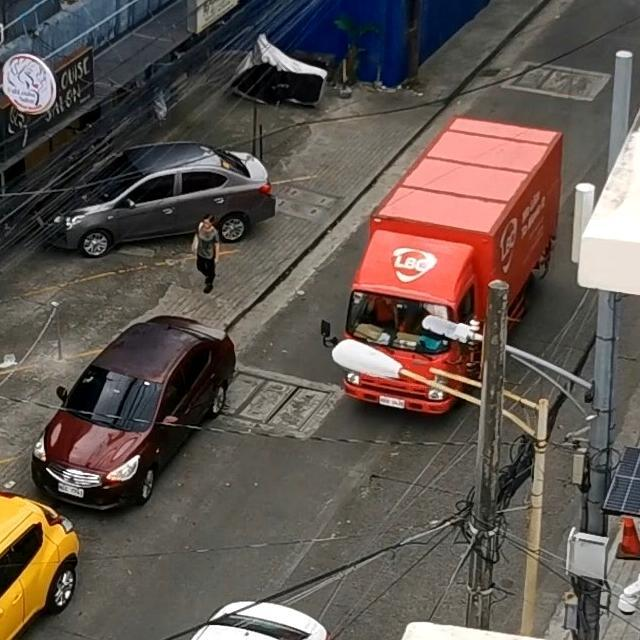Truck: (292, 63, 592, 474)
